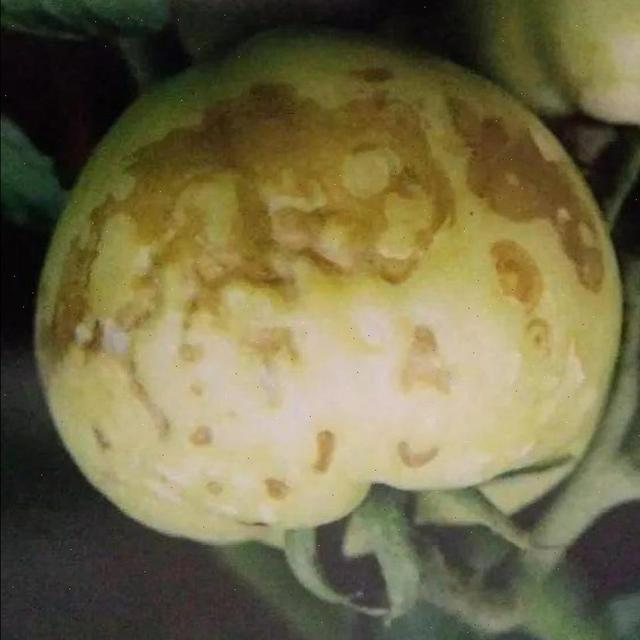Spotted wilt Virus Fruit: (22, 22, 416, 370)
